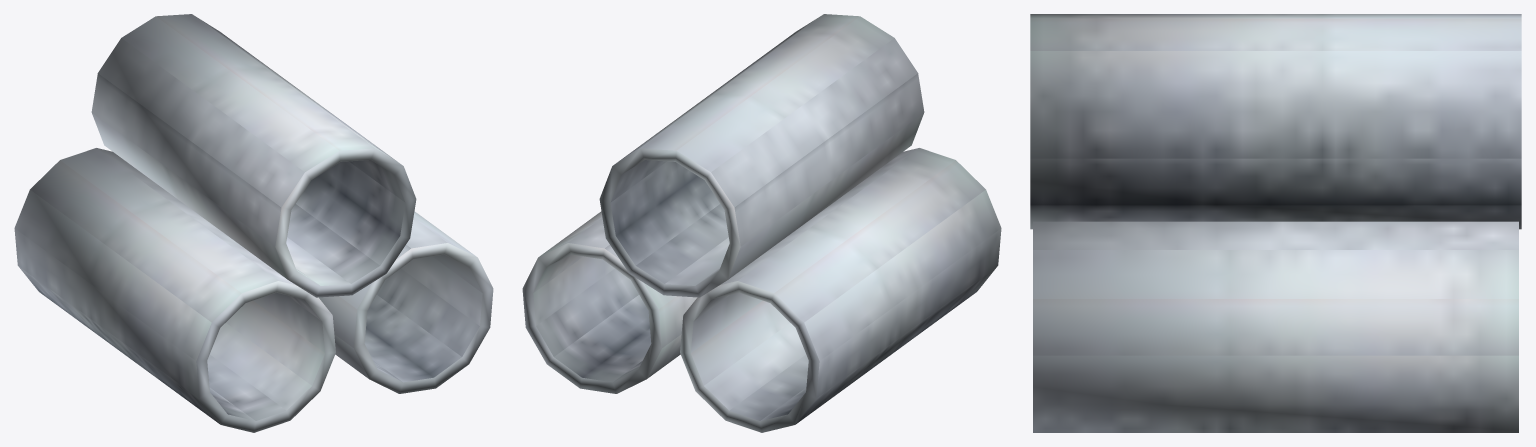
The model's file is psx_industrial_pack_concrete_pipe_pile.glb.
3 renders of one model, left to right at view 1: azimuth 30°, elevation 25°; view 2: azimuth 150°, elevation 25°; view 3: azimuth 270°, elevation 25°, orthographic. The views are drawn at different scales.
Visible parts, largest first — view 1: ConcretePipePile; view 2: ConcretePipePile; view 3: ConcretePipePile.
Boxes of the visible parts, <box> form: ConcretePipePile: <box>14,14,493,432</box>; ConcretePipePile: <box>522,14,1001,432</box>; ConcretePipePile: <box>1030,14,1521,432</box>.
Bounding box in the file's own units: 1.89 × 1.59 × 2.02.
1 material, 1 textured.
